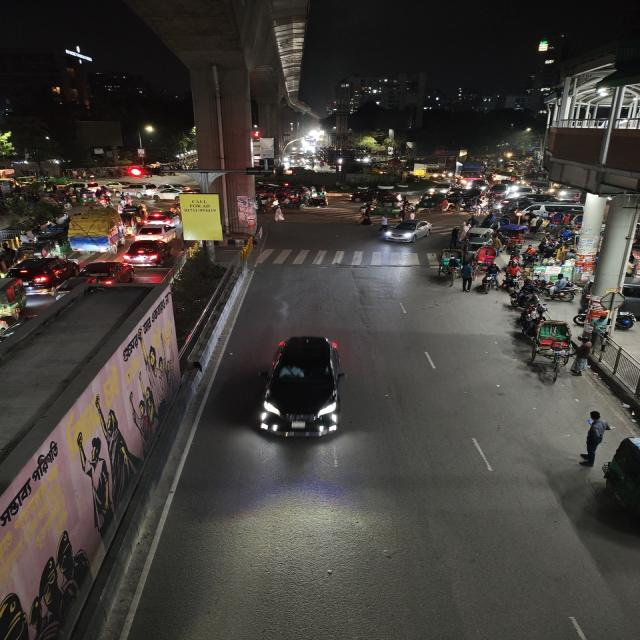car: (256, 331, 351, 446), (10, 256, 80, 288), (380, 218, 436, 246), (122, 238, 174, 268), (81, 260, 136, 287), (136, 203, 179, 227), (131, 224, 177, 240), (155, 191, 180, 203)
cng: (600, 431, 640, 534), (0, 276, 28, 317), (416, 194, 448, 212), (615, 309, 638, 331)
motorcycle: (509, 280, 543, 312), (544, 273, 578, 303), (0, 307, 26, 337)
pedestrian: (576, 408, 613, 466), (459, 262, 476, 292), (354, 204, 376, 226), (269, 202, 288, 223), (479, 273, 496, 295)
pickup_van: (65, 208, 124, 256)
rickshaw: (523, 318, 585, 374), (576, 299, 616, 341), (545, 274, 578, 303), (430, 248, 461, 277), (475, 243, 499, 267)
truck: (453, 161, 486, 189), (414, 163, 446, 180)
